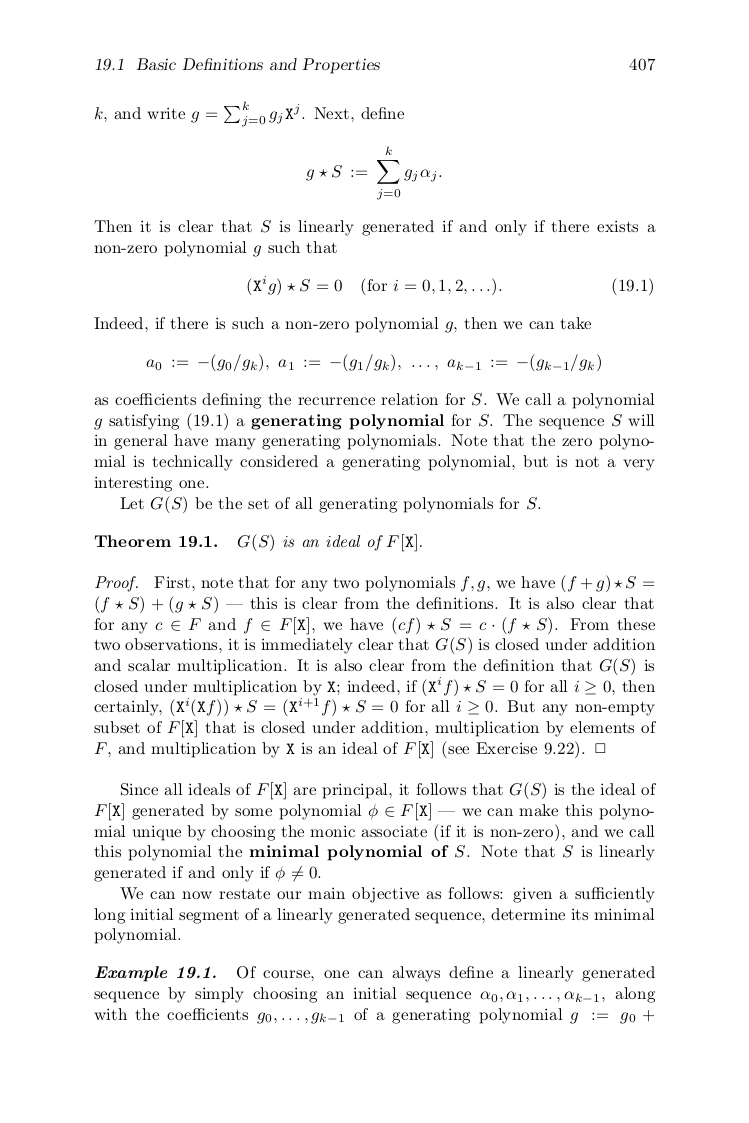formula: (146, 353, 600, 372), (247, 277, 652, 296), (306, 146, 441, 199)
